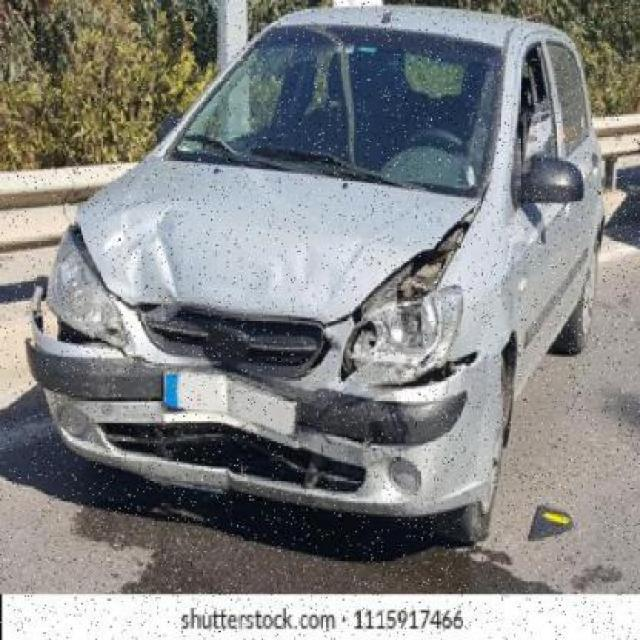bonnet-dent: (71, 166, 470, 326)
front-bumper-dent: (17, 288, 493, 498)
